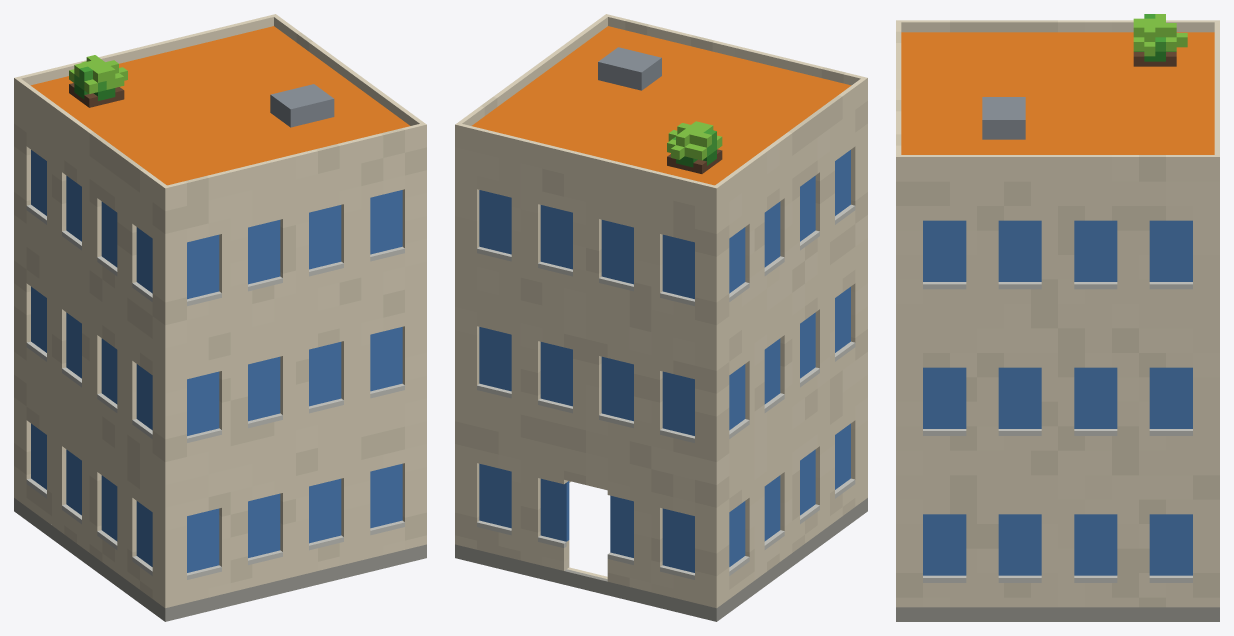
File: house_b.glb
3 views of the same model, side by side, from view 1: azimuth 30°, elevation 25°; view 2: azimuth 150°, elevation 25°; view 3: azimuth 270°, elevation 25° (orthographic). The views are drawn at different scales.
Parts seen in each view (by area): view 1: house; view 2: house; view 3: house.
Part boxes in pixels (x1,y1,x2,y2): house: [14, 14, 426, 621]; house: [455, 14, 867, 621]; house: [896, 14, 1219, 621].
Size of the model in its own units: 6 by 10 by 6.
